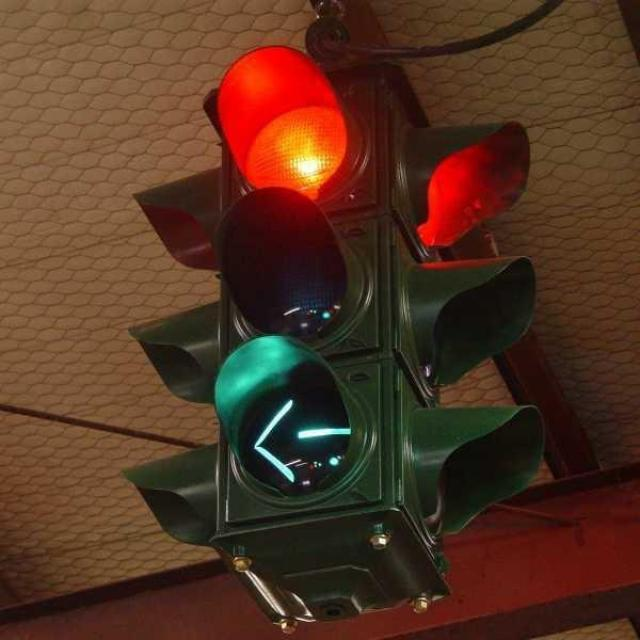Traffic Light -Green-: (195, 208, 411, 546)
Traffic Light -Red-: (194, 42, 392, 337)
